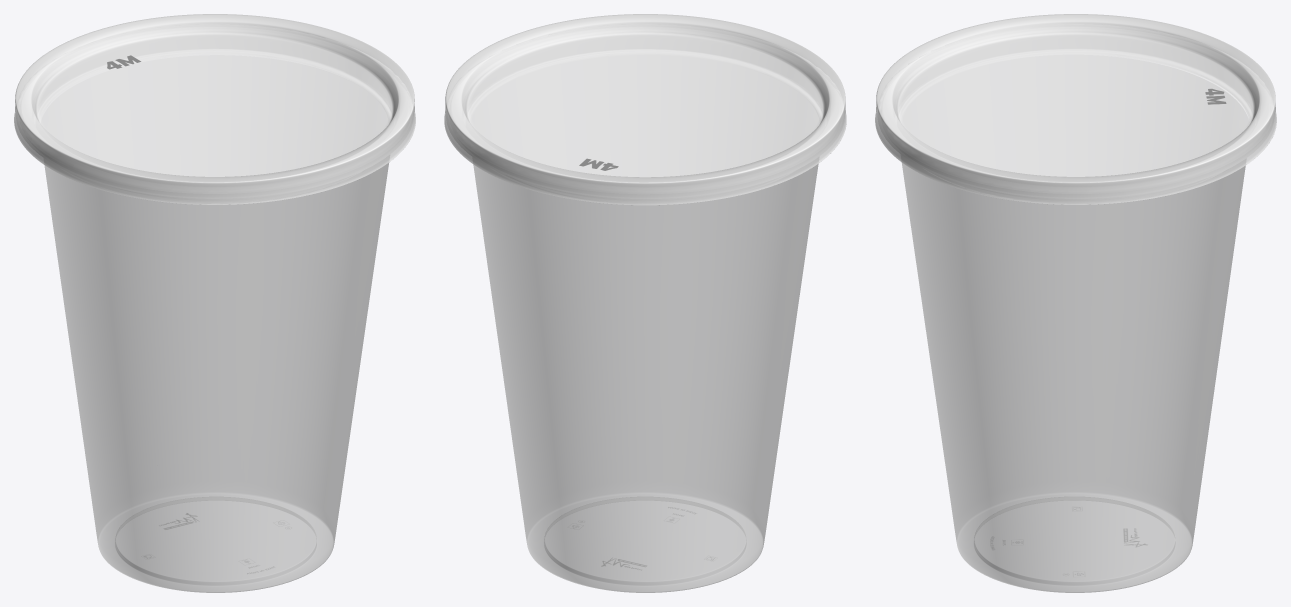
The model's file is 250_glasswith_flat_lid.glb.
3 views of the same model, side by side, from view 1: azimuth 30°, elevation 25°; view 2: azimuth 150°, elevation 25°; view 3: azimuth 270°, elevation 25° (orthographic).
Visible parts, largest first — view 1: meshes[0].002, top; view 2: meshes[0].002, top; view 3: meshes[0].002, top.
Boxes of the visible parts, bbox=[...] form: meshes[0].002: bbox=[16, 24, 413, 592]; top: bbox=[14, 14, 415, 204]; meshes[0].002: bbox=[446, 24, 844, 592]; top: bbox=[444, 14, 846, 205]; meshes[0].002: bbox=[878, 24, 1274, 592]; top: bbox=[875, 14, 1276, 204].
Size of the model in its own units: 0.0723 by 0.0884 by 0.0723.
4 materials, 2 textured.
